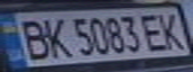0: (87, 15, 109, 56)
3: (121, 12, 145, 54)
5: (69, 14, 93, 57)
8: (106, 14, 127, 54)
B: (12, 16, 54, 62)
E: (136, 11, 172, 53)
K: (36, 15, 72, 60), (154, 9, 190, 52)
